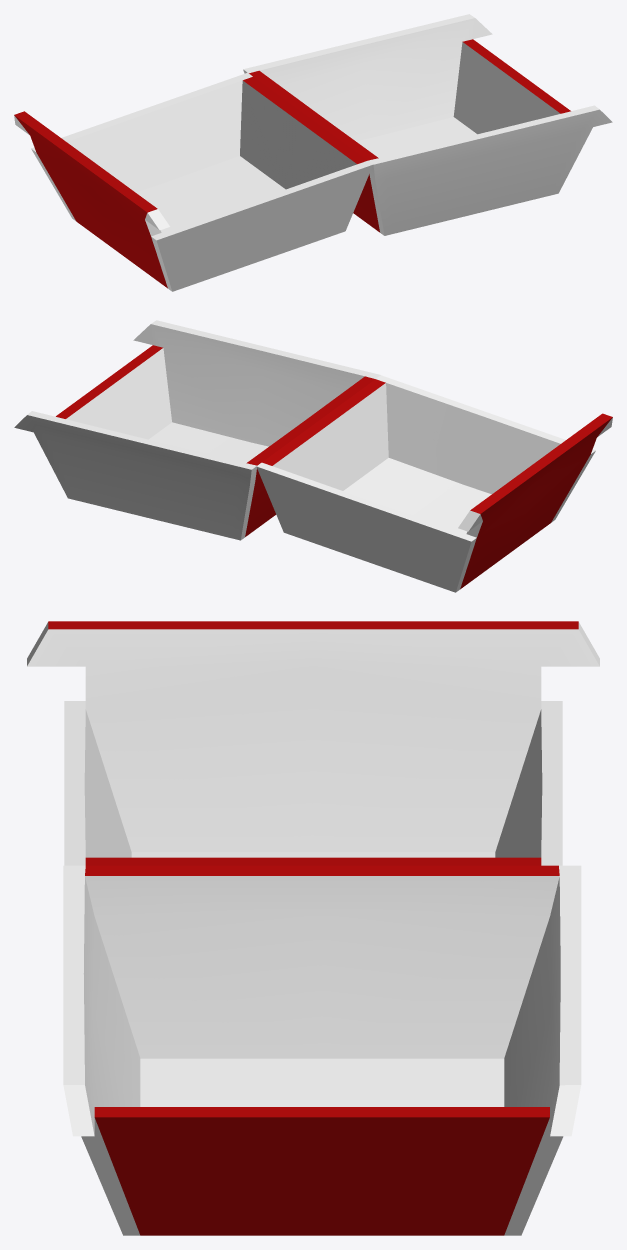
Rendered from Packaging_06.glb.
3 renders of one model, top to bottom at view 1: azimuth 30°, elevation 25°; view 2: azimuth 150°, elevation 25°; view 3: azimuth 270°, elevation 25°, orthographic. The views are drawn at different scales.
Visible parts, largest first — view 1: Mesh_Packaging_06; view 2: Mesh_Packaging_06; view 3: Mesh_Packaging_06.
Boxes of the visible parts, x1,y1,x2,y2 form: Mesh_Packaging_06: [14, 14, 612, 291]; Mesh_Packaging_06: [14, 320, 612, 592]; Mesh_Packaging_06: [27, 621, 599, 1235].
Bounding box in the file's own units: 0.2168 × 0.0451 × 0.1149.
1 material, 1 textured.
